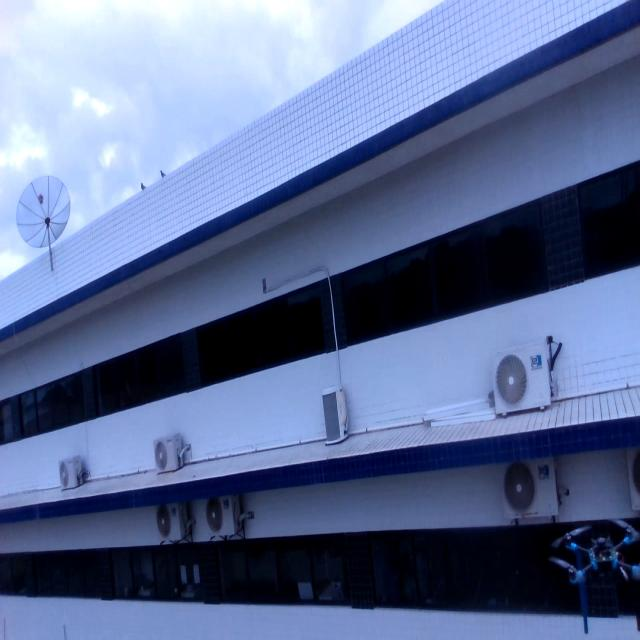-uav-: (545, 505, 640, 640)
